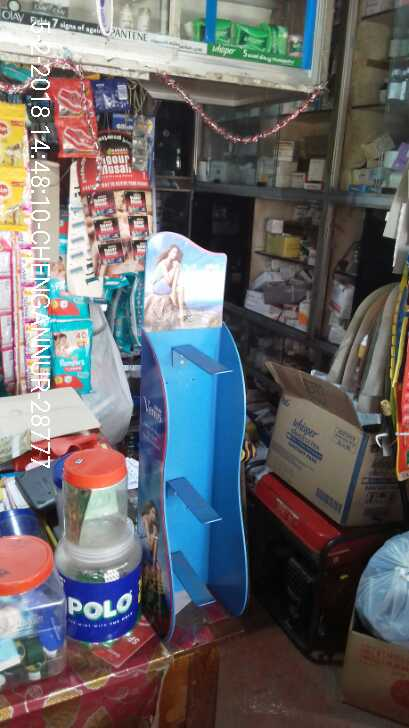reject: (171, 243, 207, 295)
